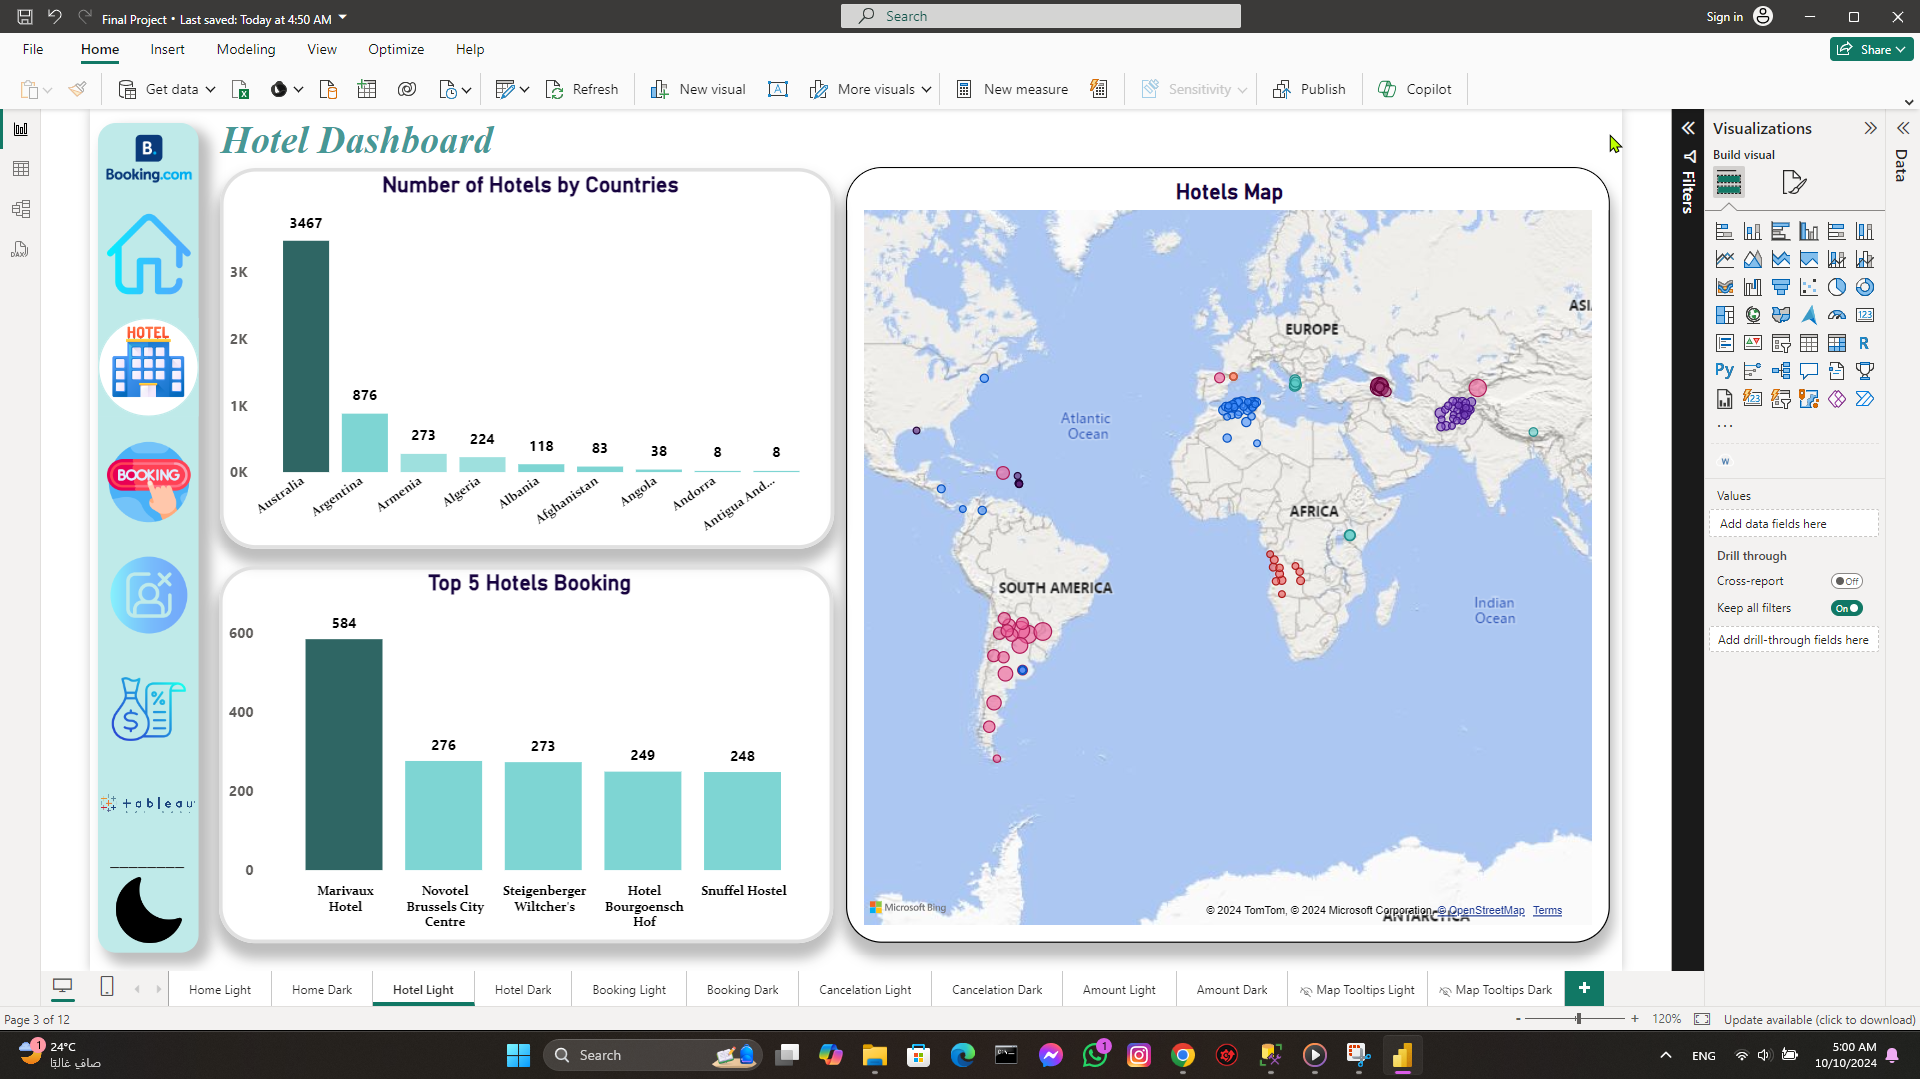

Layout of this report page (visuals, bound fields, positions):
{"tool":"tableau","page":{"name":"Hotel Dashboard","canvas":[1450,830],"ordinal":2},"visuals":[{"type":"image","param":"Image/Hotel.jpg","box":[0,0,1450,830]},{"type":"text","box":[516,29,239,35]},{"type":"image","param":"Image/choose.png","box":[96,31,47,39]},{"type":"text","box":[67,73,100,29]},{"type":"worksheet","title":"Top & Bottom Hotel Price Per Night","mark":"Automatic","rows":["Calculation_673288202736930823"],"box":[217,105,517,185]},{"type":"worksheet","title":"Top 10 Hotels Rated By Guests","mark":"Square","rows":["hotel_name"],"box":[1212,109,205,367]},{"type":"worksheet","title":"Num of Hotels by Star Rating","mark":"Circle","box":[776,111,398,380]},{"type":"dashboard-object","box":[27,137,174,53]},{"type":"dashboard-object","box":[27,216,174,47]},{"type":"dashboard-object","box":[27,291,174,47]},{"type":"worksheet","title":"Waterfall of Count of Hotels by Country","mark":"GanttBar","rows":["Calculation_868913312278827010"],"cols":["Country (Dim_Hotel)"],"box":[225,308,515,196]},{"type":"dashboard-object","box":[27,366,174,47]},{"type":"dashboard-object","box":[28,448,174,47]},{"type":"blank","box":[53,515,123,2]},{"type":"worksheet","title":"No. Reviews For Each Hotel","mark":"Automatic","rows":["Review_id_SK"],"cols":["hotel_name"],"box":[224,519,1185,285]},{"type":"text","box":[79,525,78,34]},{"type":"dashboard-object","box":[72,573,76,39]},{"type":"dashboard-object","box":[123,573,91,39]},{"type":"blank","box":[52,627,123,2]},{"type":"text","box":[46,642,144,25]},{"type":"image","param":"Image/Microsoft-Power-BI-Symbol.png","box":[74,677,77,61]}]}

Visuals, with their boxes on the page's 1450x830 design canvas (x1, y1, x2, y2). These are canvas units, not pixel positions in the 1920x1079 screenshot, which may show the page scaled, cropped or inside an application window:
image: [x1=0, y1=0, x2=1450, y2=830]
text: [x1=516, y1=29, x2=755, y2=64]
image: [x1=96, y1=31, x2=143, y2=70]
text: [x1=67, y1=73, x2=167, y2=102]
"Top & Bottom Hotel Price Per Night" worksheet: [x1=217, y1=105, x2=734, y2=290]
"Top 10 Hotels Rated By Guests" worksheet (Square marks): [x1=1212, y1=109, x2=1417, y2=476]
"Num of Hotels by Star Rating" worksheet (Circle marks): [x1=776, y1=111, x2=1174, y2=491]
dashboard-object: [x1=27, y1=137, x2=201, y2=190]
dashboard-object: [x1=27, y1=216, x2=201, y2=263]
dashboard-object: [x1=27, y1=291, x2=201, y2=338]
"Waterfall of Count of Hotels by Country" worksheet (GanttBar marks): [x1=225, y1=308, x2=740, y2=504]
dashboard-object: [x1=27, y1=366, x2=201, y2=413]
dashboard-object: [x1=28, y1=448, x2=202, y2=495]
blank: [x1=53, y1=515, x2=176, y2=517]
"No. Reviews For Each Hotel" worksheet: [x1=224, y1=519, x2=1409, y2=804]
text: [x1=79, y1=525, x2=157, y2=559]
dashboard-object: [x1=72, y1=573, x2=148, y2=612]
dashboard-object: [x1=123, y1=573, x2=214, y2=612]
blank: [x1=52, y1=627, x2=175, y2=629]
text: [x1=46, y1=642, x2=190, y2=667]
image: [x1=74, y1=677, x2=151, y2=738]
